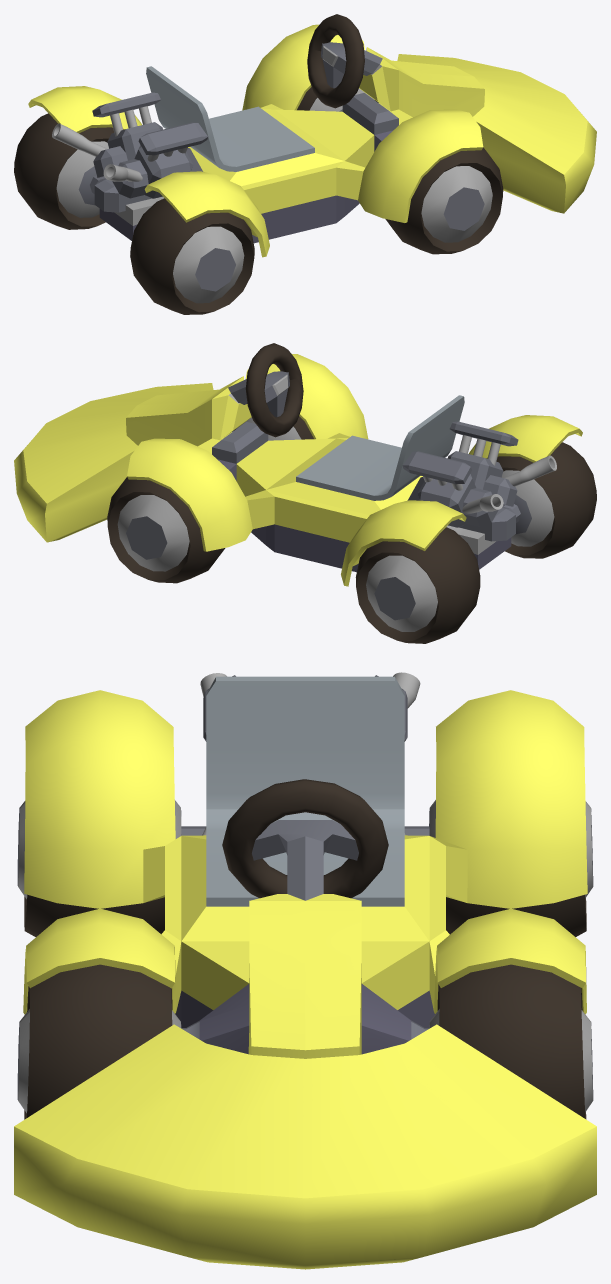
File: Kart_006.fbx
The picture shows the model from 3 angles, top to bottom: view 1: azimuth 30°, elevation 25°; view 2: azimuth 150°, elevation 25°; view 3: azimuth 270°, elevation 25°; orthographic projection. The views are drawn at different scales.
Visible parts, largest first — view 1: Kart_001; view 2: Kart_001; view 3: Kart_001.
Part boxes in pixels (<box>): Kart_001: <box>14,14,596,314</box>; Kart_001: <box>14,343,596,643</box>; Kart_001: <box>14,672,596,1269</box>.
Bounding box in the file's own units: 12.39 × 4.76 × 7.2.
